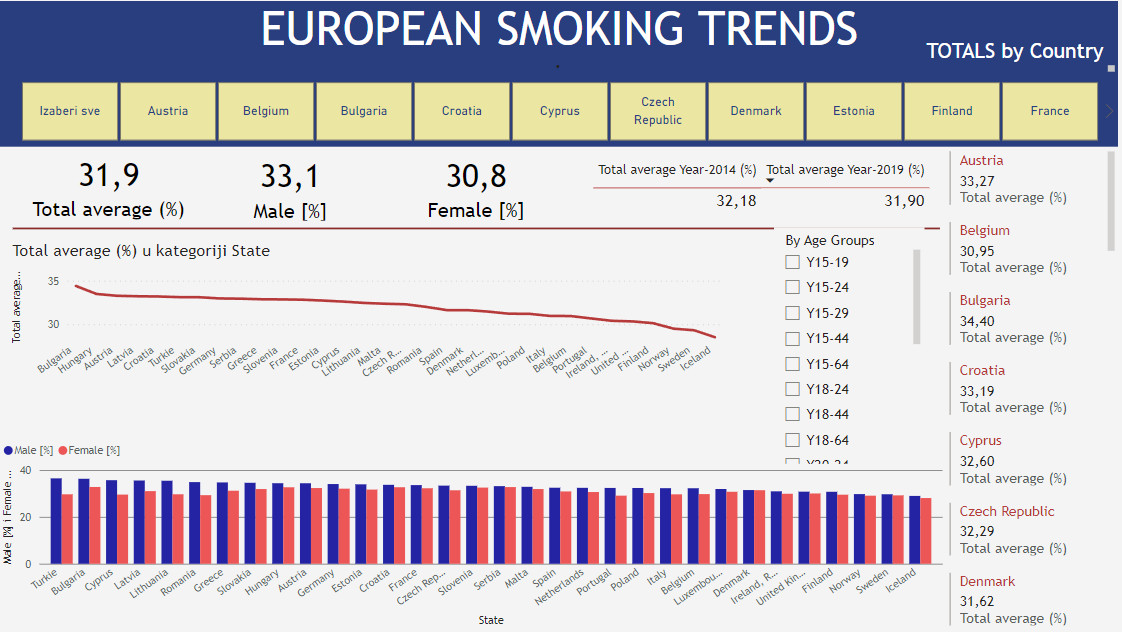

Layout of this report page (visuals, bound fields, positions):
{"tool":"powerbi","page":{"name":"Totals","canvas":[1280,720],"ordinal":0},"visuals":[{"type":"textbox","title":"EUROPEAN SMOKING TRENDS","box":[0,0,1280.4,86],"z":0},{"type":"slicer","fields":{"Values":["Location.State"]},"box":[0,86.4,1280.2,80.6],"z":1000},{"type":"card","fields":{"Values":["_Measures.Average % by Country"]},"box":[0,167.3,250.9,87.5],"z":2000},{"type":"multiRowCard","fields":{"Values":["Location.State","_Measures.Average % by Country"]},"box":[1081.4,167,198.7,553],"z":3000},{"type":"textbox","title":"TOTALS by Country","box":[1041,43.4,239.4,30.1],"z":4000},{"type":"lineChart","fields":{"Category":["Location.State"],"Y":["_Measures.Average % by Country"]},"box":[9.8,274,822.9,169.4],"z":5000},{"type":"shape","box":[16,239.4,1059.6,39.9],"z":6000},{"type":"clusteredColumnChart","title":"Smoking distribution by gender","fields":{"Category":["Location.State"],"Y":["_Measures.Male [%]","_Measures.Female [%]"]},"box":[0,494.1,1083.5,225.7],"z":7000},{"type":"card","fields":{"Values":["_Measures.Male [%]"]},"box":[251.2,168.4,163.4,87.8],"z":8000},{"type":"card","fields":{"Values":["_Measures.Female [%]"]},"box":[466,168.4,159.4,86.7],"z":9000},{"type":"tableEx","fields":{"Values":["_Measures.Total average Year-2014 (%)","_Measures.Total average Year-2019 (%)"]},"box":[672.8,175.5,402.5,79.7],"z":10000},{"type":"slicer","fields":{"Values":["1 - MainT.Age"]},"box":[886.2,259.2,172.4,275],"z":11000}]}

Visuals, with their boxes in screenshot pixels (x1, y1, x2, y2), scaled from the page's 1280x720 canvas onto the 1122x632 screenshot:
"EUROPEAN SMOKING TRENDS" textbox: rect(0, 0, 1121, 75)
slicer - Location.State: rect(0, 76, 1121, 147)
card - _Measures.Average % by Country: rect(0, 147, 220, 224)
multiRowCard - Location.State x _Measures.Average % by Country: rect(948, 147, 1121, 631)
"TOTALS by Country" textbox: rect(913, 38, 1121, 65)
lineChart - Location.State x _Measures.Average % by Country: rect(9, 241, 730, 389)
shape: rect(14, 210, 943, 245)
"Smoking distribution by gender" clusteredColumnChart: rect(0, 434, 950, 631)
card - _Measures.Male [%]: rect(220, 148, 363, 225)
card - _Measures.Female [%]: rect(408, 148, 548, 224)
tableEx - _Measures.Total average Year-2014 (%) x _Measures.Total average Year-2019 (%): rect(590, 154, 943, 224)
slicer - 1 - MainT.Age: rect(777, 228, 928, 469)
